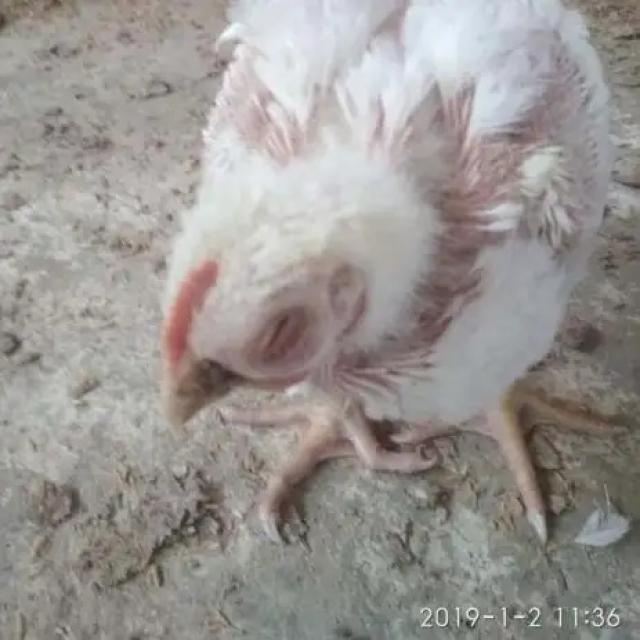poussin: (160, 2, 608, 568)
